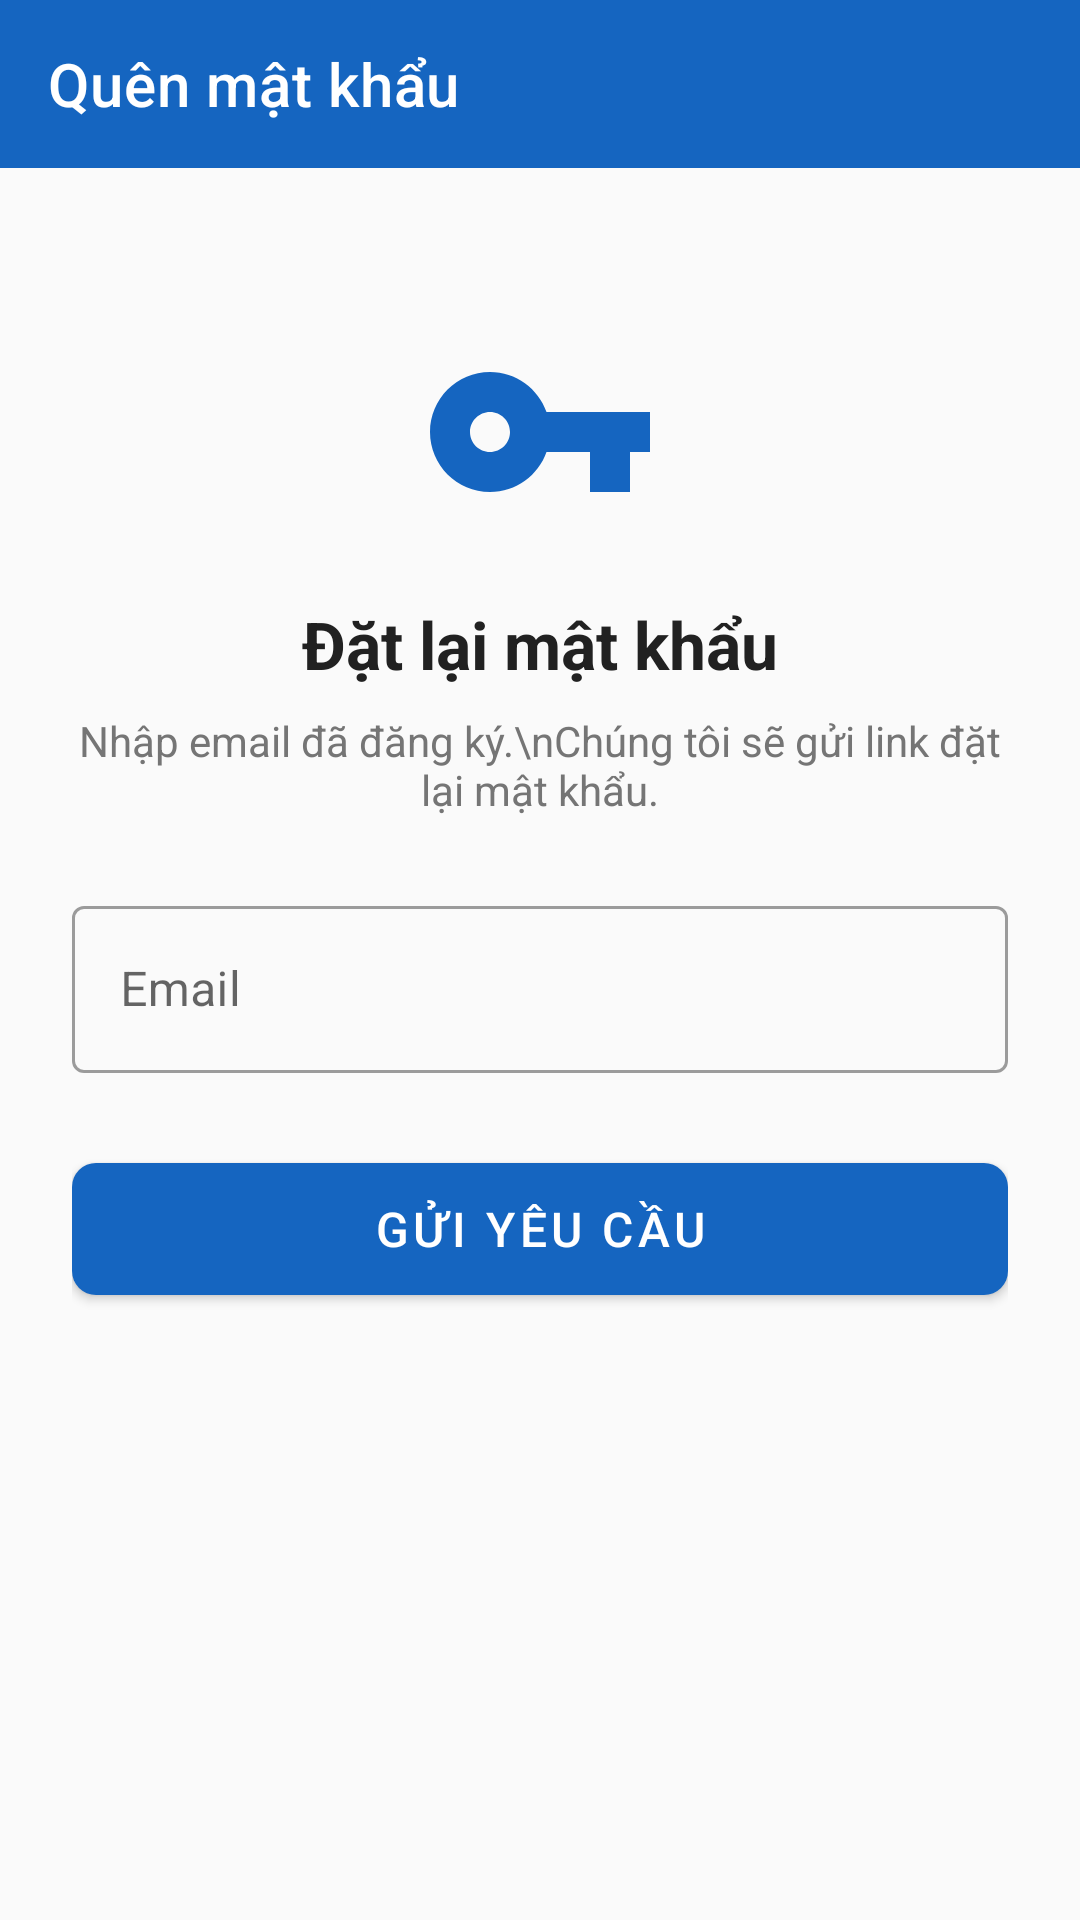

Where icons sit on this 1080w x 1920h app screen, as (x1,y1,x2,y2):
vpn key: (430,372,650,492)
